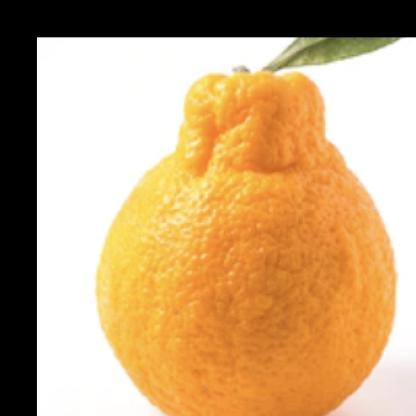fresh: (100, 67, 399, 416)
